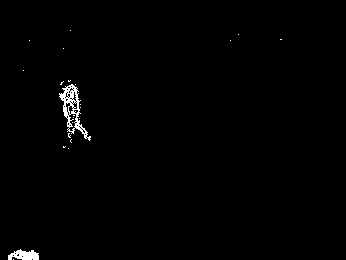person: (58, 78, 92, 150)
